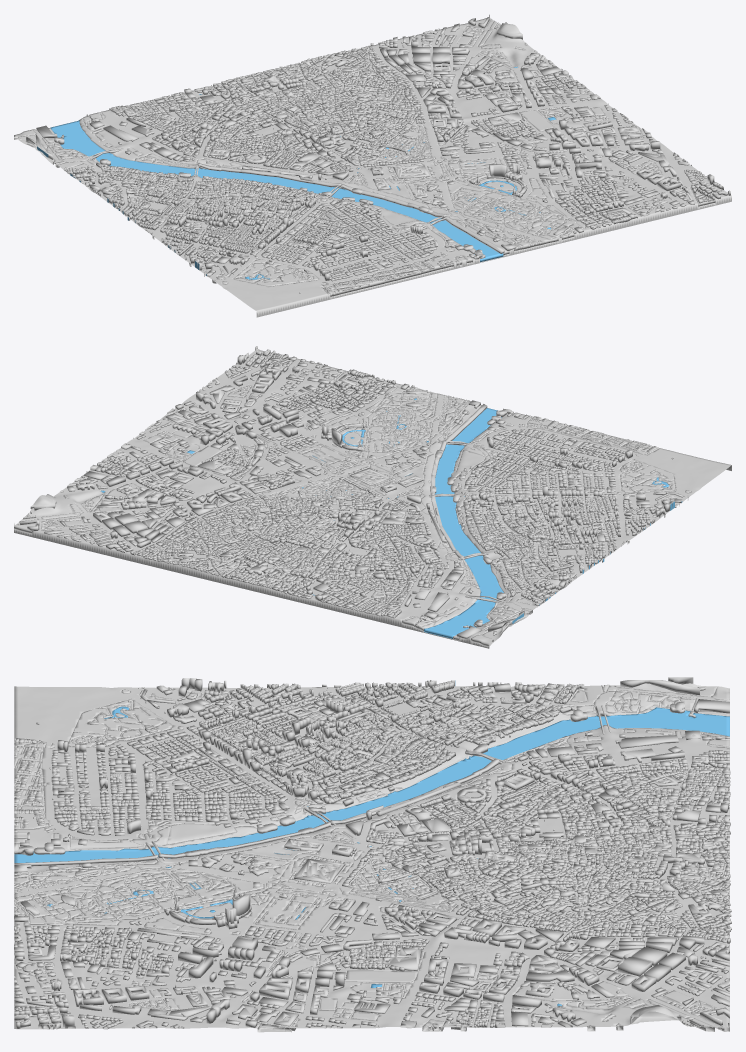
The model's file is Sevilla-comp.glb.
3 renders of one model, top to bottom at view 1: azimuth 30°, elevation 25°; view 2: azimuth 150°, elevation 25°; view 3: azimuth 270°, elevation 25°, orthographic. The views are drawn at different scales.
Visible parts, largest first — view 1: Water.003; view 2: Water.003; view 3: Water.003.
Part boxes in pixels (box(x1,y1,x2,y2)): Water.003: box(14, 14, 731, 317); Water.003: box(14, 346, 731, 648); Water.003: box(14, 677, 731, 1032).
Size of the model in its own units: 10.69 by 0.4471 by 9.49.
